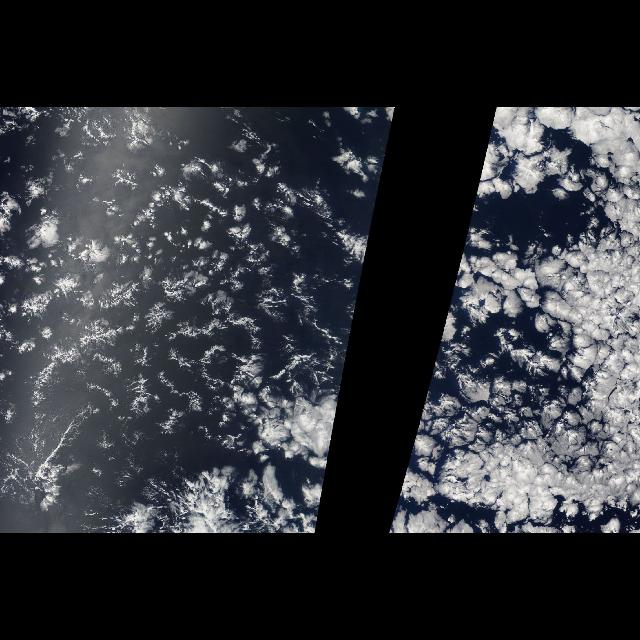Flower: (7, 108, 397, 522), (388, 107, 640, 533)
Gravel: (0, 108, 302, 524)
